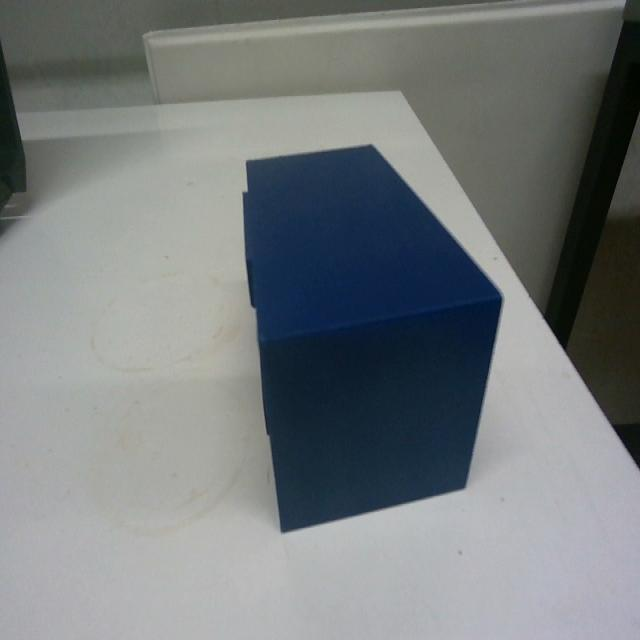Blue Cuboid: (238, 139, 505, 533)
